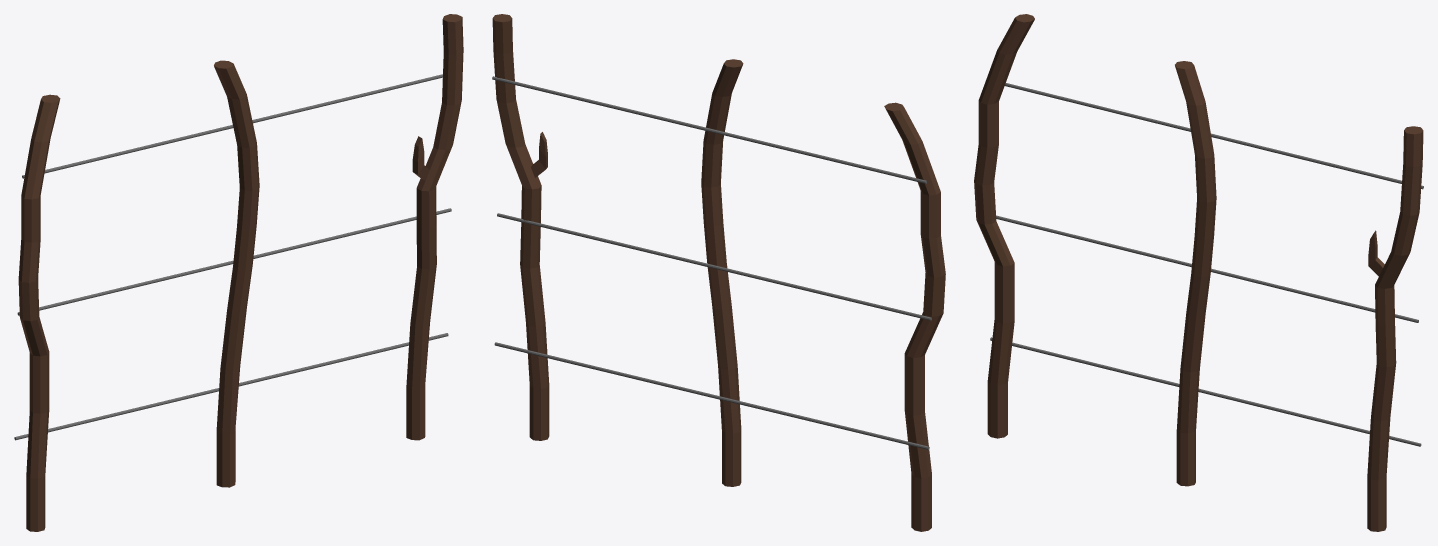
The model's file is fence.fbx.
3 views of the same model, side by side, from view 1: azimuth 30°, elevation 25°; view 2: azimuth 150°, elevation 25°; view 3: azimuth 330°, elevation 25° (orthographic).
Parts seen in each view (by area): view 1: fence; view 2: fence; view 3: fence.
Boxes of the visible parts, bbox=[...] form: fence: bbox=[14, 14, 463, 531]; fence: bbox=[492, 14, 945, 531]; fence: bbox=[974, 14, 1423, 531].
Size of the model in its own units: 816 by 737 by 60.39.
